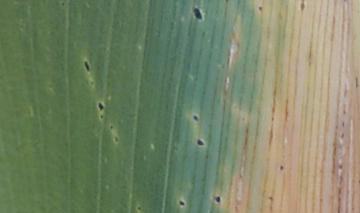tarspot: (191, 6, 203, 21), (195, 137, 206, 147), (212, 193, 222, 204), (83, 59, 91, 72), (176, 198, 186, 208), (265, 193, 274, 202), (191, 114, 201, 122), (112, 133, 119, 143), (135, 203, 142, 213), (299, 1, 306, 11), (97, 101, 104, 110), (88, 78, 95, 86), (108, 123, 115, 131), (98, 112, 105, 119), (278, 163, 284, 171), (59, 1, 66, 7), (257, 4, 263, 11), (223, 1, 230, 3)
